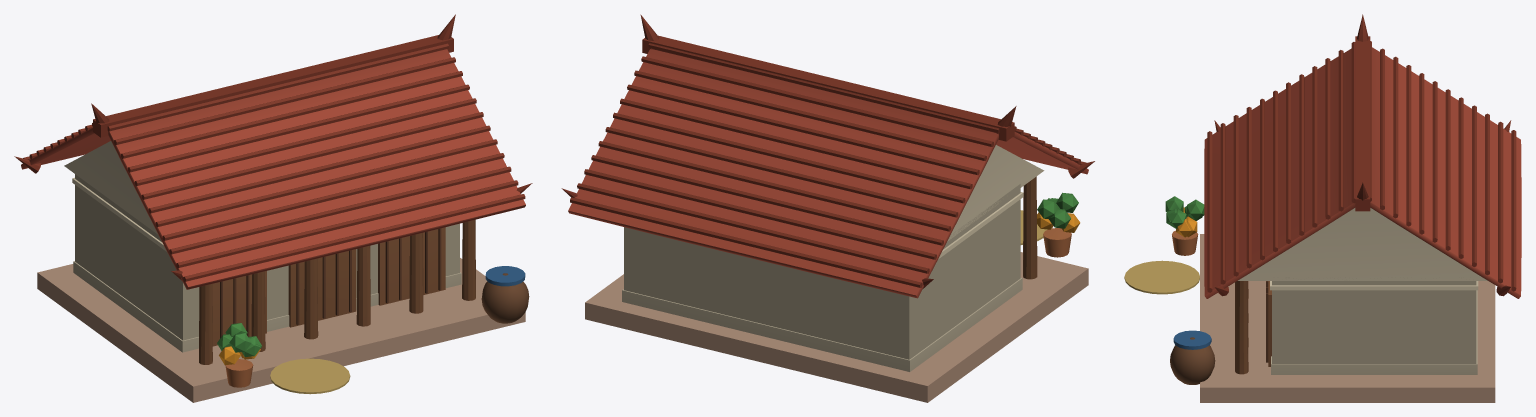
Rendered from hs-119pvtn.glb.
3 renders of one model, left to right at view 1: azimuth 30°, elevation 25°; view 2: azimuth 150°, elevation 25°; view 3: azimuth 270°, elevation 25°, orthographic. The views are drawn at different scales.
Bounding box in the file's own units: 10.53 × 6.65 × 10.49.
